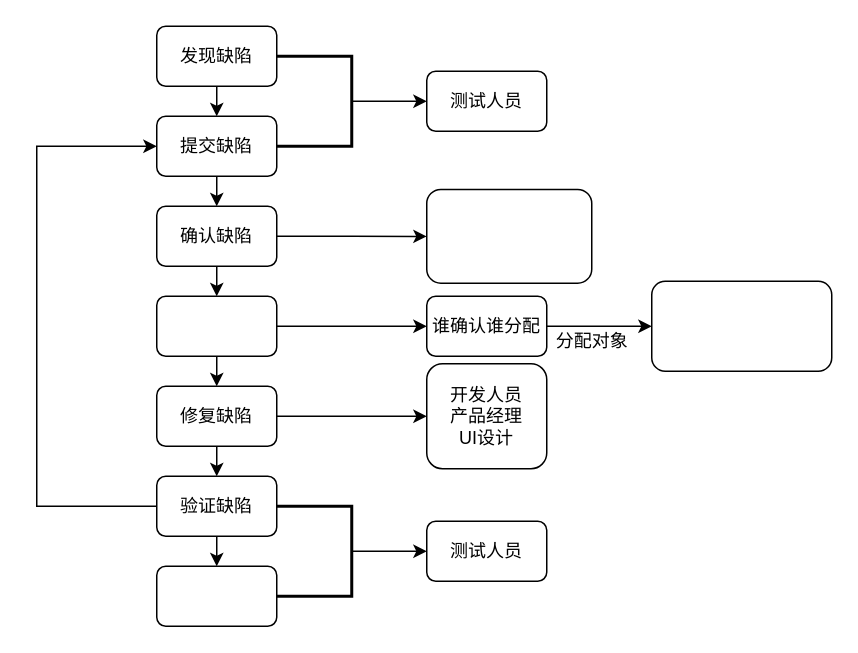
The diagram is 858 pixels wide and 653 high, and some of its shapes have lost their labels. Here are the shapes that lost their labels. From the top down, the centre of each, then its label:
At (508,235): "测试主管 质量保证（QA） 产品经理".
At (216,325): "分配缺陷".
At (741,325): "开发人员 UI设计 产品经理".
At (216,595): "关闭缺陷".
